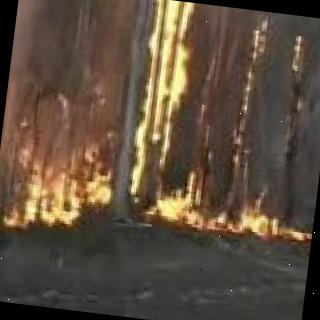fire: (132, 0, 220, 233), (0, 133, 120, 233), (227, 184, 317, 250)
